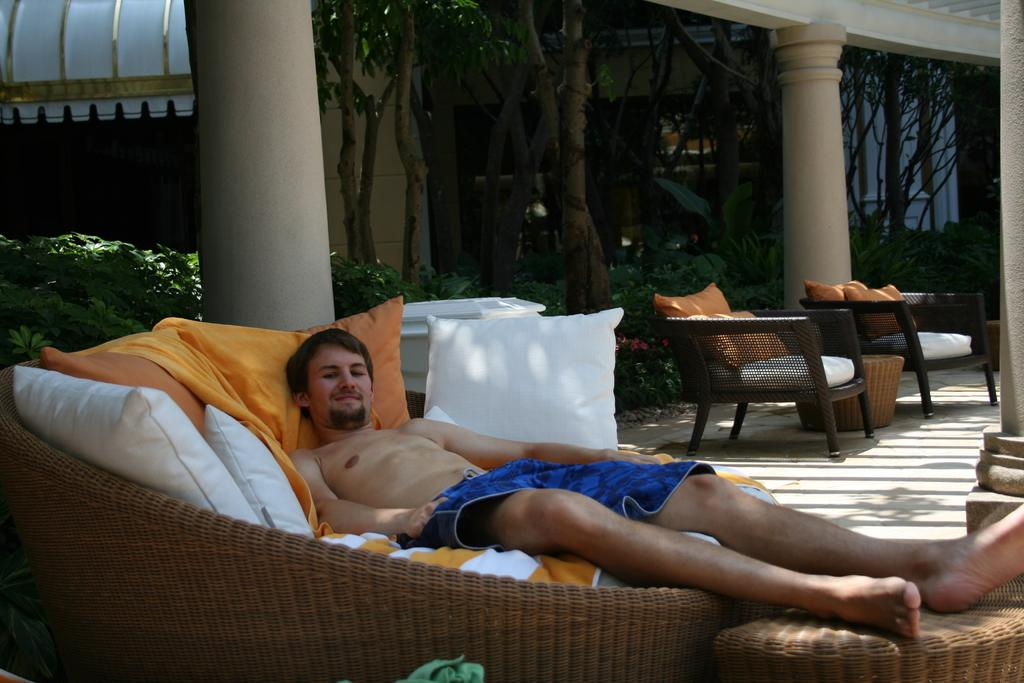Chair: (664, 290, 893, 465), (799, 279, 999, 418)
